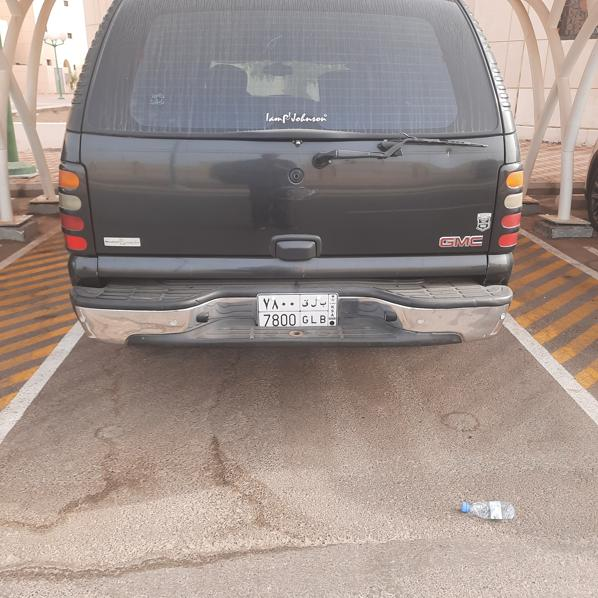numberplate: (258, 293, 337, 328)
